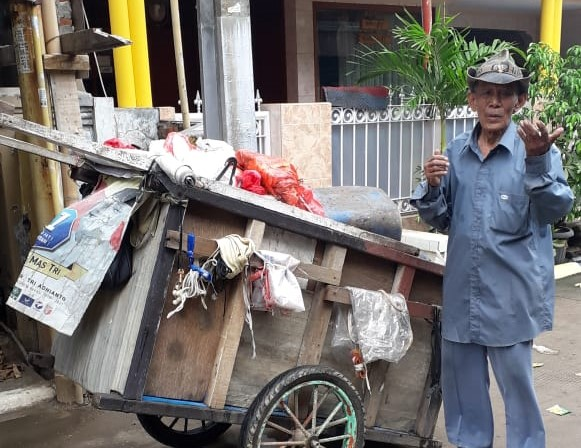pemulung: (2, 54, 577, 448)
